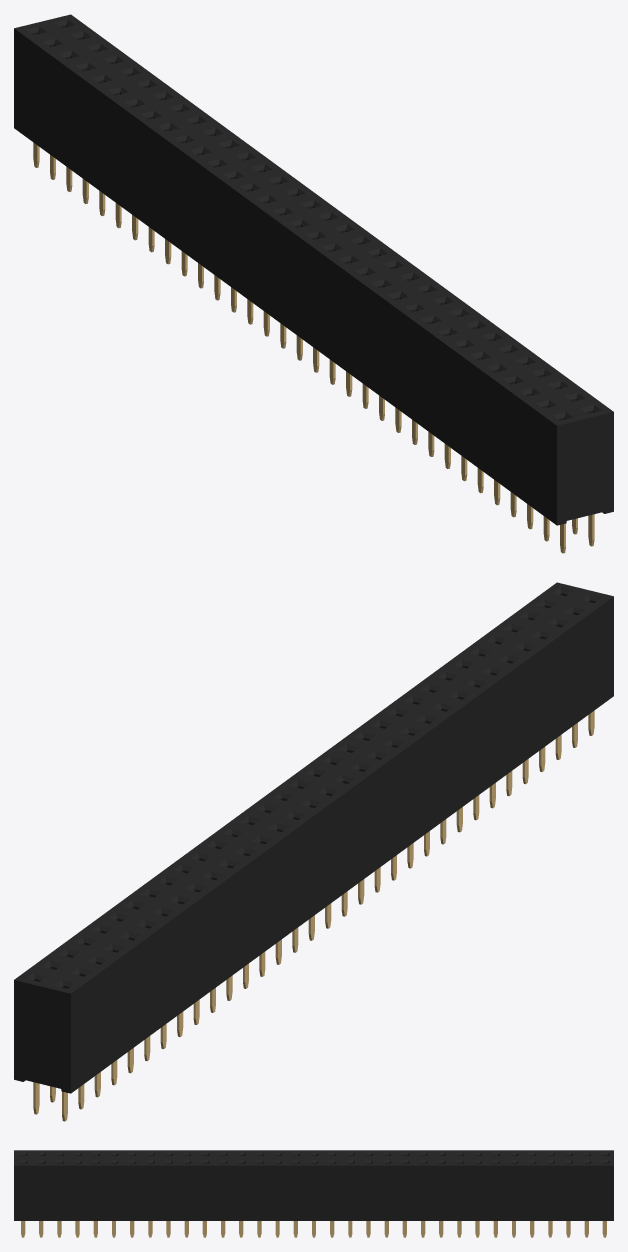
Rendered from kc-pinsocket_2x33_p2.54mm_vertical.glb.
3 views of the same model, one above another, from view 1: azimuth 30°, elevation 25°; view 2: azimuth 150°, elevation 25°; view 3: azimuth 270°, elevation 25° (orthographic). The views are drawn at different scales.
Visible parts, largest first — view 1: 0_0_0_0, 0.75_0.5_0.25_0.9; view 2: 0_0_0_0, 0.75_0.5_0.25_0.9; view 3: 0_0_0_0, 0.75_0.5_0.25_0.9.
Boxes of the visible parts, x1,y1,x2,y2 form: 0_0_0_0: [14, 14, 613, 525]; 0.75_0.5_0.25_0.9: [33, 142, 594, 553]; 0_0_0_0: [14, 582, 613, 1093]; 0.75_0.5_0.25_0.9: [33, 710, 594, 1121]; 0_0_0_0: [14, 1150, 613, 1220]; 0.75_0.5_0.25_0.9: [21, 1221, 606, 1237].
Size of the model in its own units: 0.5075 by 1.16 by 8.38.
